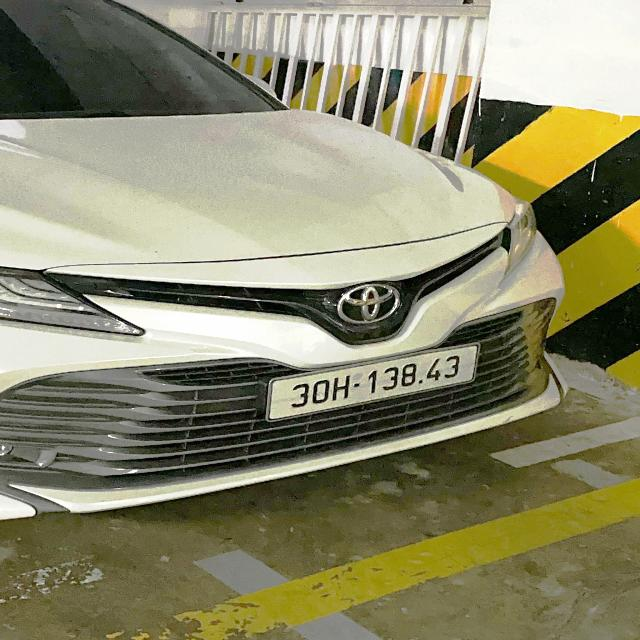license_plate: (268, 343, 486, 422)
